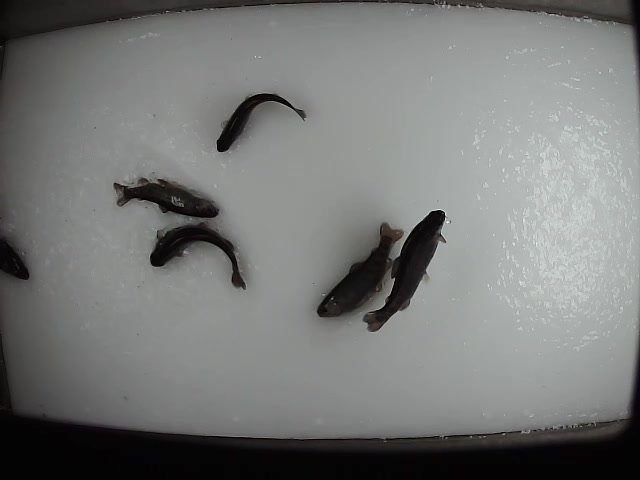Fish: (362, 210, 447, 332), (318, 222, 404, 317), (150, 222, 246, 290), (217, 94, 307, 152), (113, 177, 218, 218)
